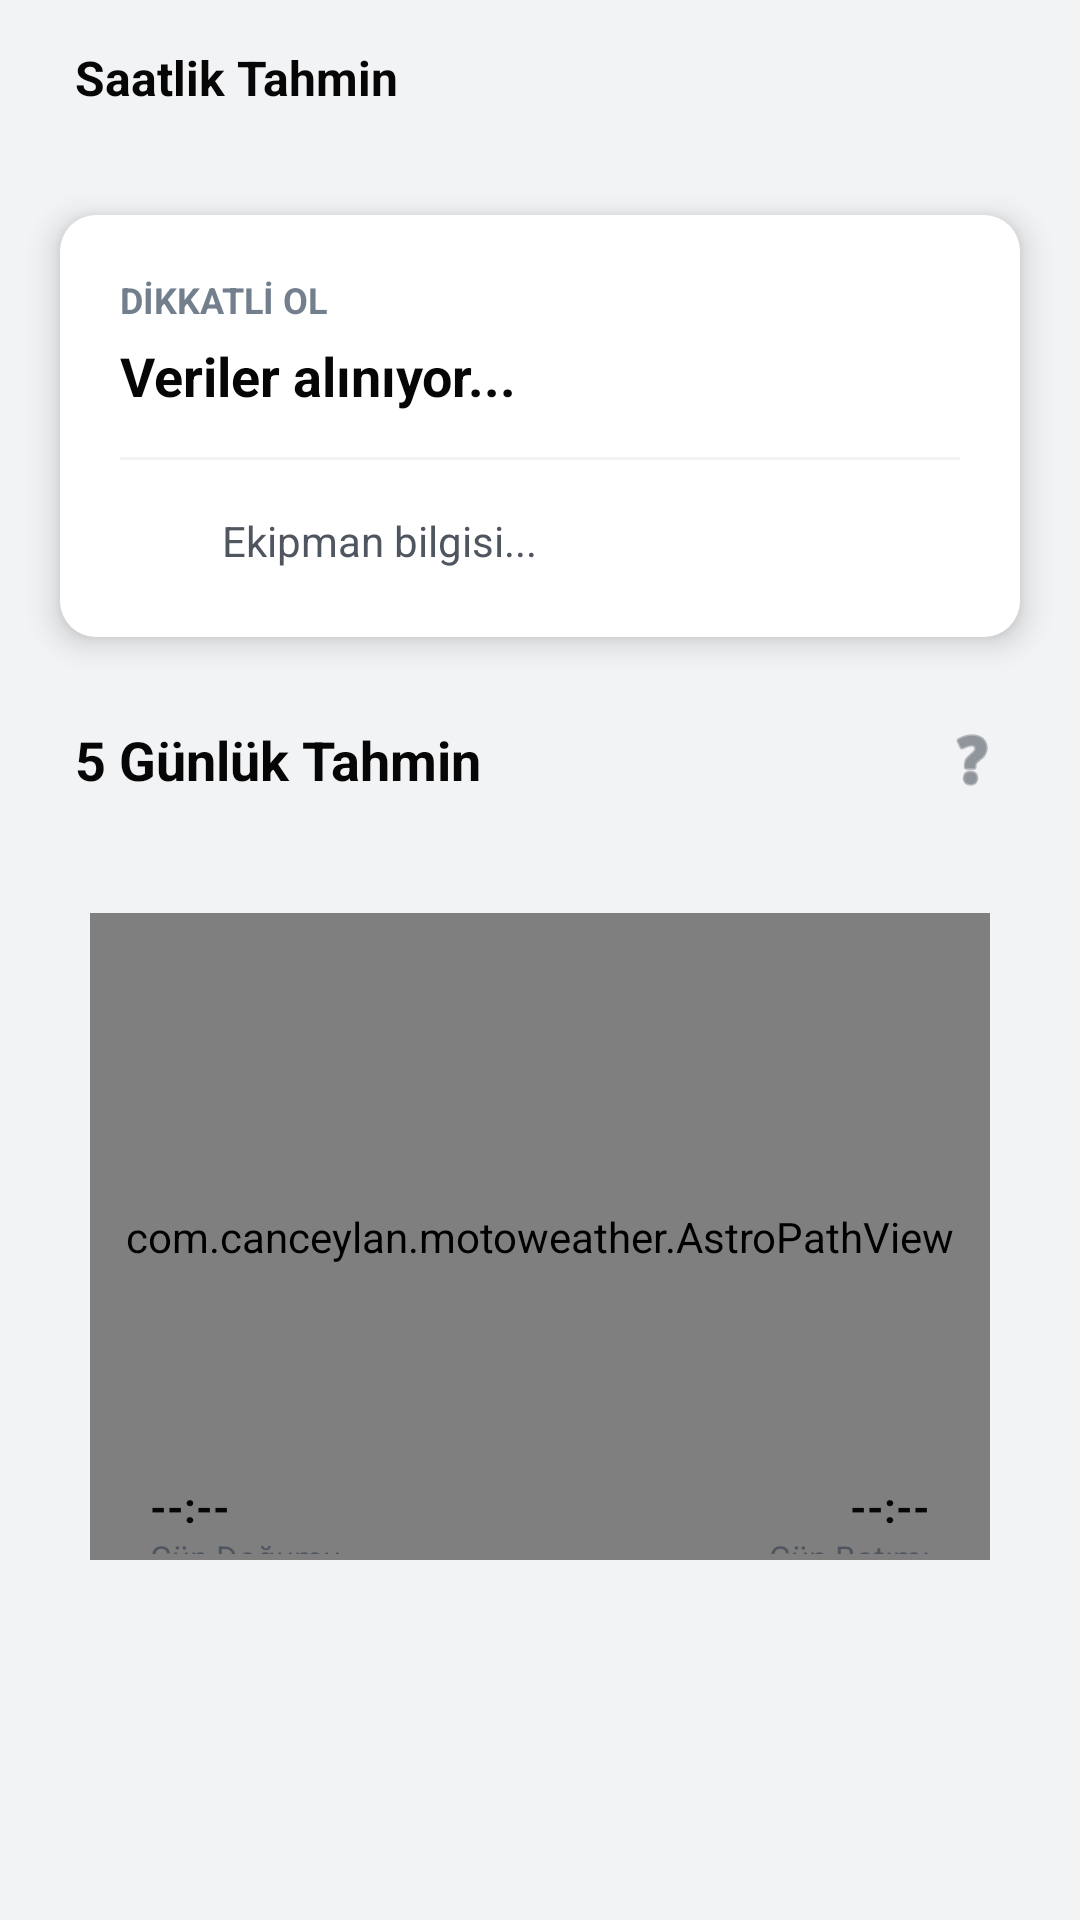

Named icons in this screenshot (1080×1920) and their bounding boxes, region(x1, y1, x2, y2):
help: region(956, 734, 988, 786)
